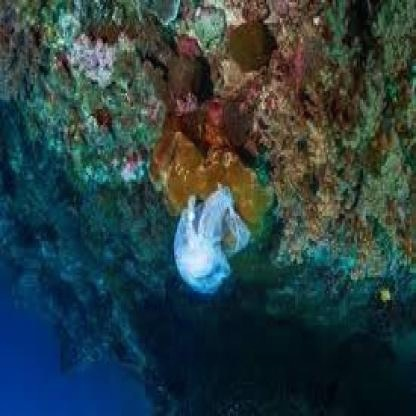pbag: (173, 186, 251, 298)
